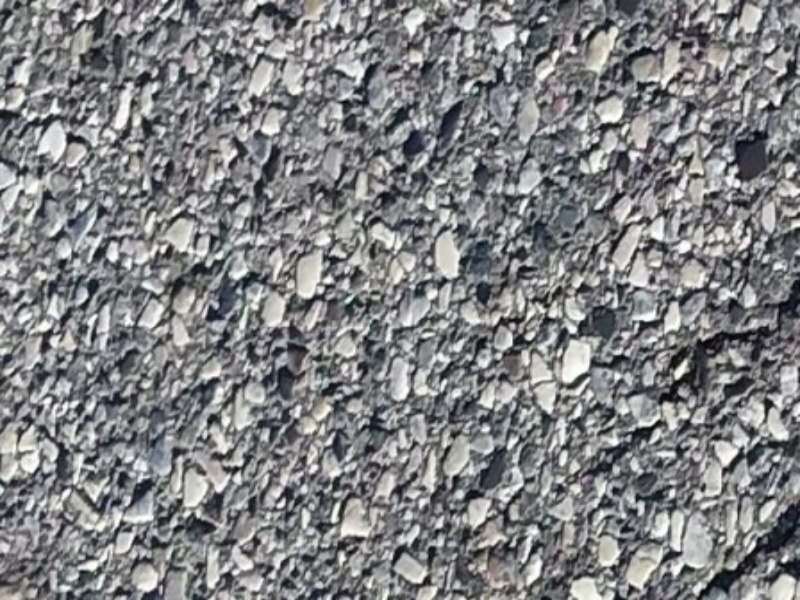crack: (550, 285, 794, 514)
